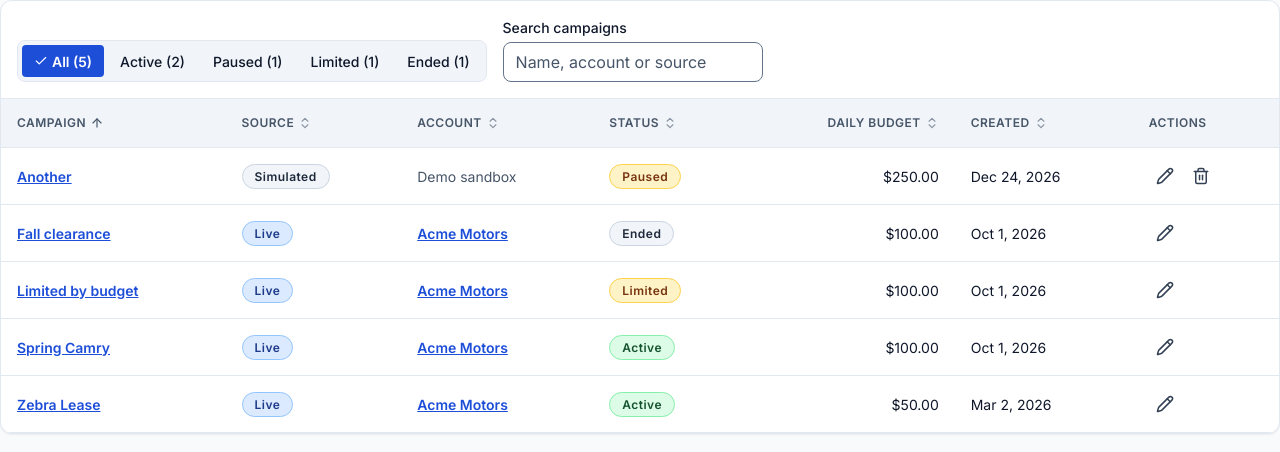
Scenario: CampaignTable › filters by status, with counts, and combines with the search
Click the radio button labelled "Limited (1)" at {"x": 345, "y": 61}, box x1=298 y1=45 x2=391 y2=77
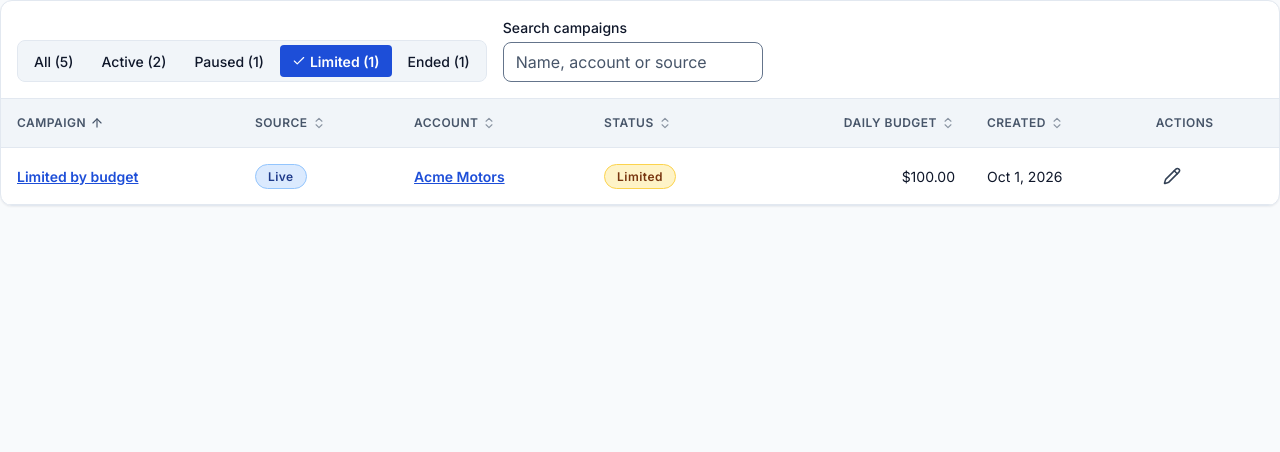
Click the radio button labelled "Ended (1)" at {"x": 439, "y": 61}, box x1=396 y1=45 x2=482 y2=77
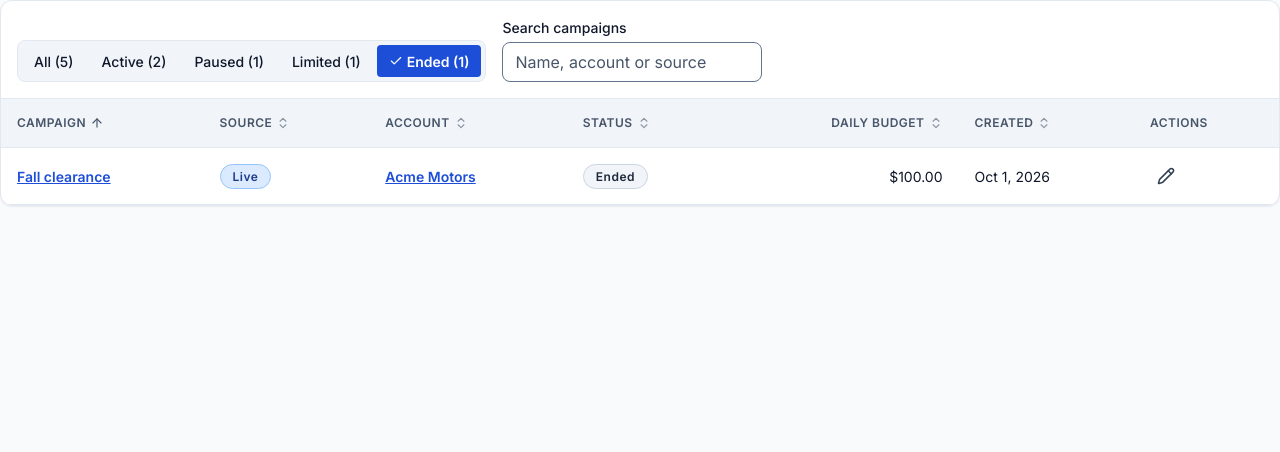
Click the radio button labelled "Active (2)" at {"x": 134, "y": 61}, box x1=90 y1=45 x2=178 y2=77
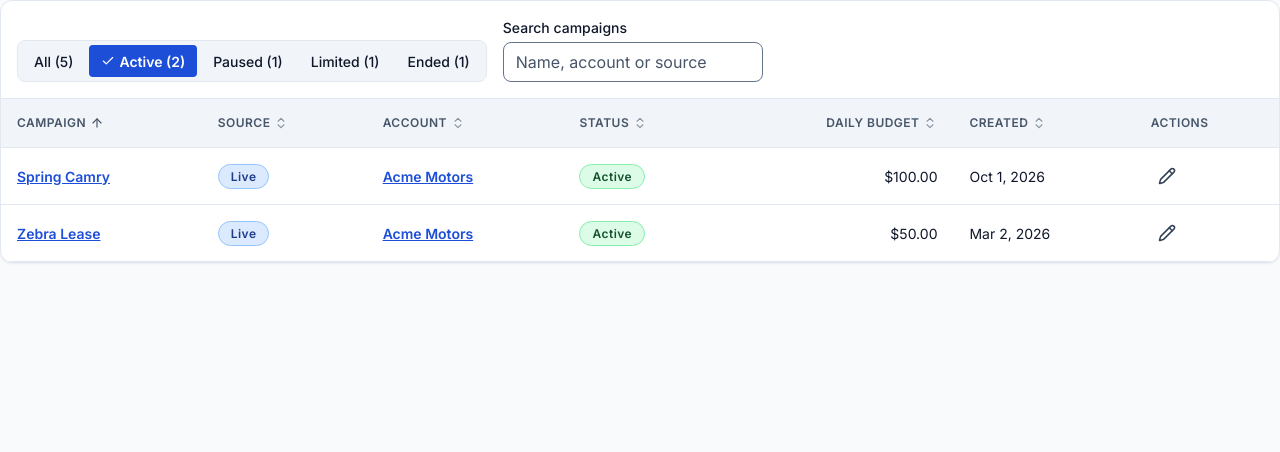
Type "zebra" into the search field labelled "Search campaigns" at {"x": 633, "y": 62}, box x1=503 y1=42 x2=763 y2=82
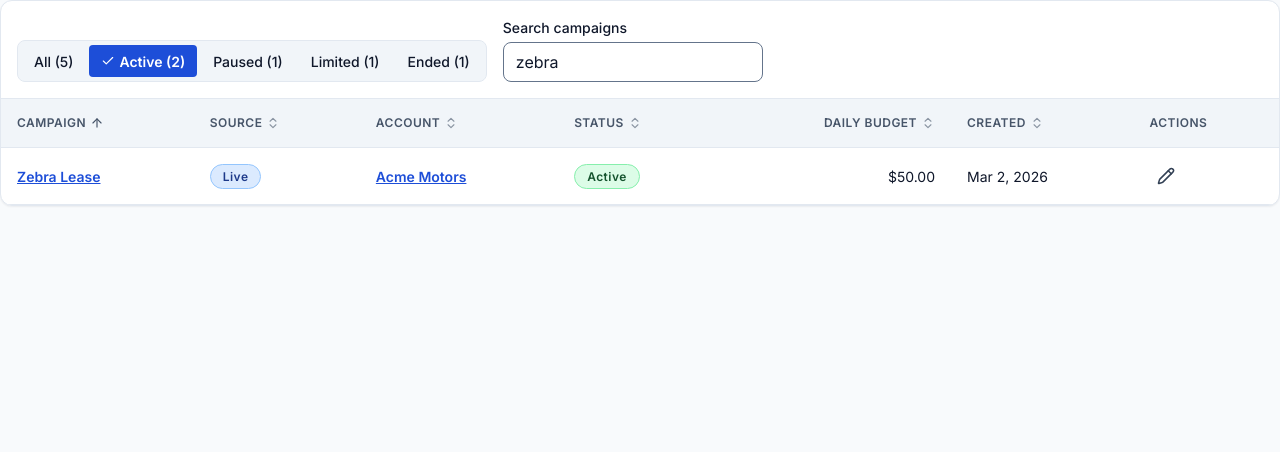
Click the radio button labelled "Paused (1)" at {"x": 248, "y": 61}, box x1=201 y1=45 x2=295 y2=77
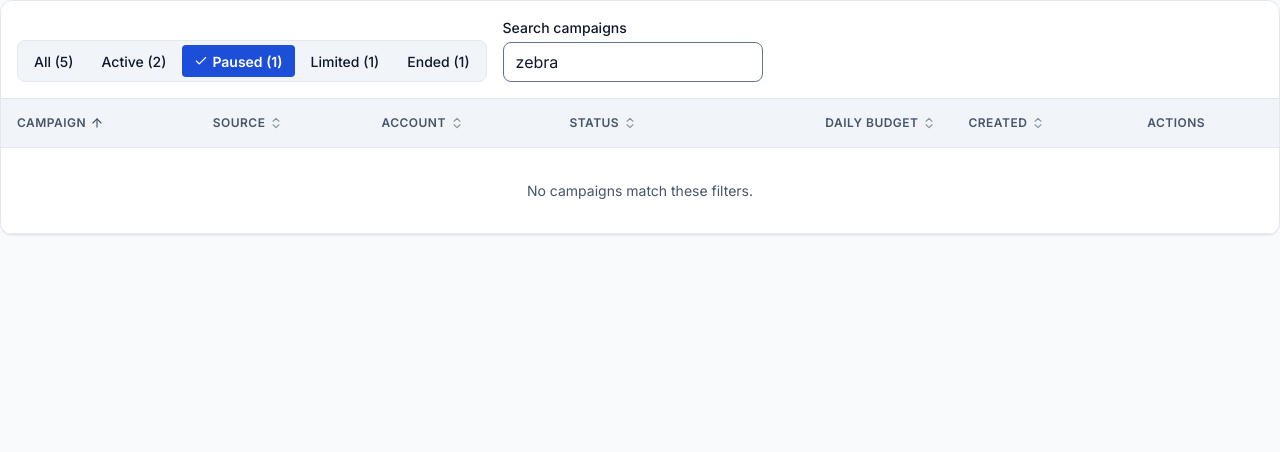
Now the text "No campaigns match these filters" is shown, box x1=527 y1=182 x2=753 y2=199
